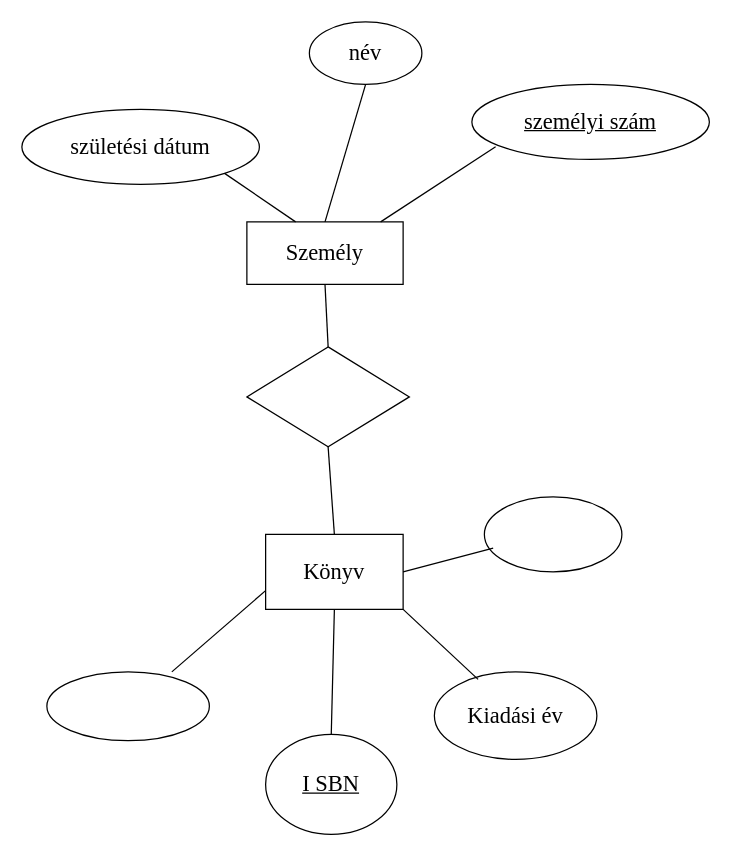
This 731x856 diagram has some shape labels left out. The centre of each missing label's shape, as x and y in pixels:
"cím" goes at pixel 552 534.
"kölcsönzés" goes at pixel 327 396.
"szerző" goes at pixel 127 706.
